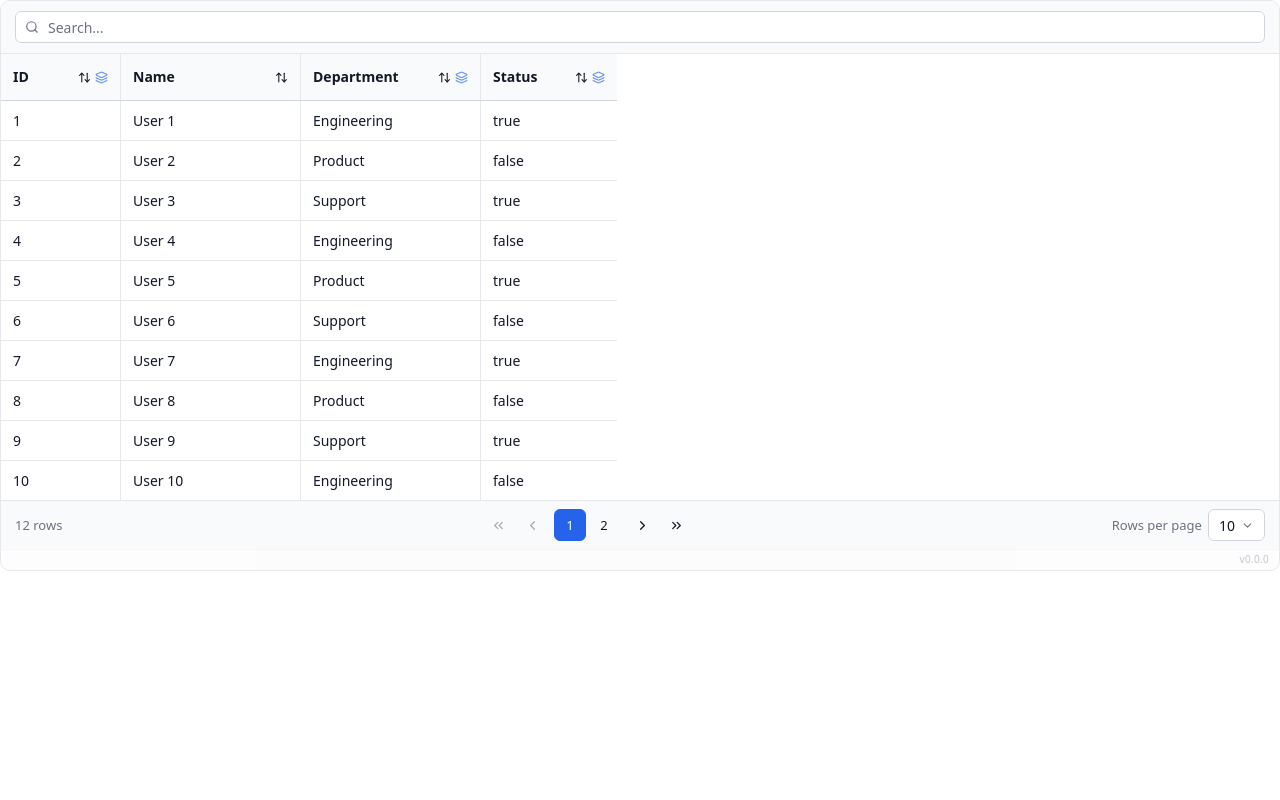
DataTable - pagination › clamps the page index after global search shrinks the row count
Click the button named "Next page".
click(642, 525)  # box [626, 509, 658, 541]
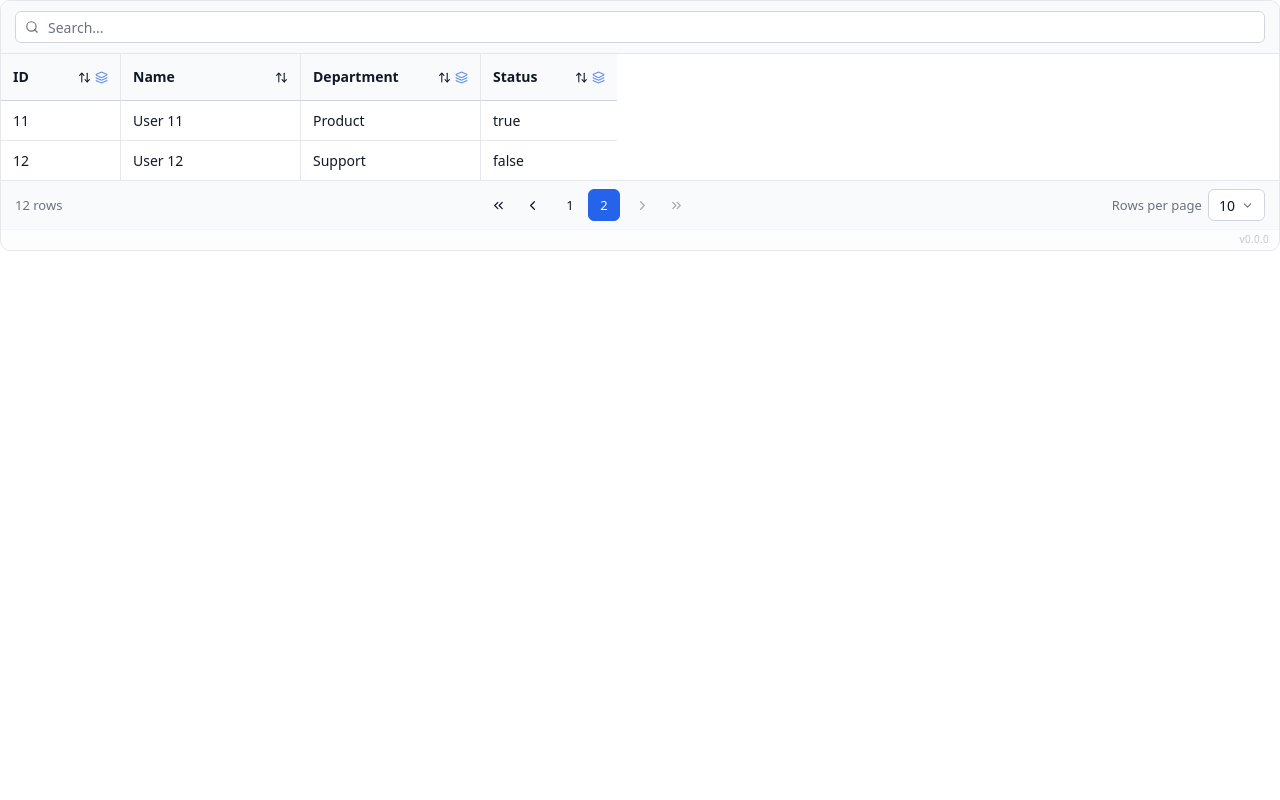
Expected: the button named "Page 2" is marked as current, [588, 189, 620, 221]
Type "User 11" into the search field labelled "Search".
click(640, 27); type("User 11")  # box [15, 11, 1265, 43]
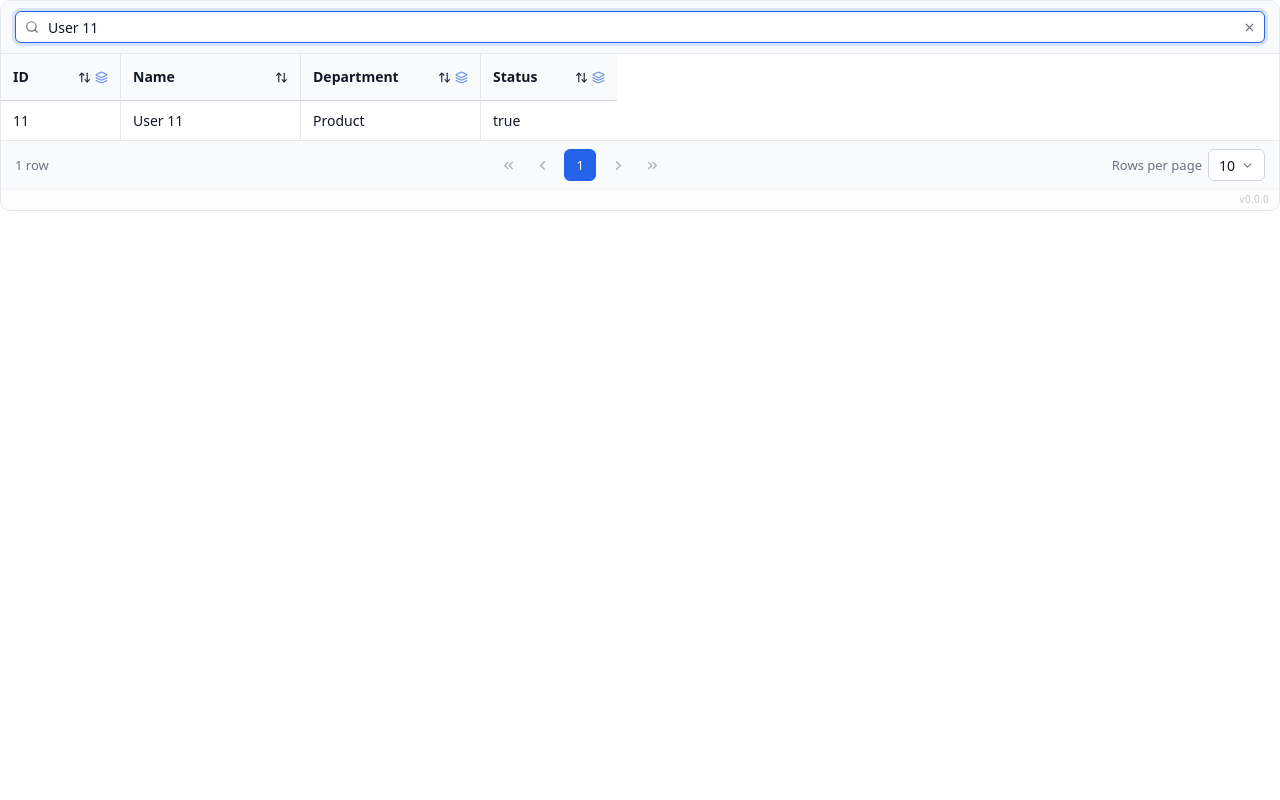
Expected: the text "User 11" is shown, [121, 101, 301, 140]
Expected: the text "User 12" is gone
